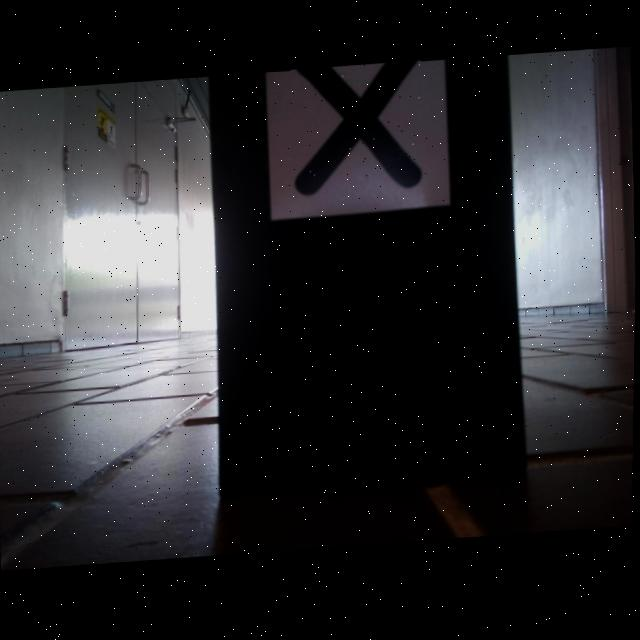X: (294, 64, 423, 199)
